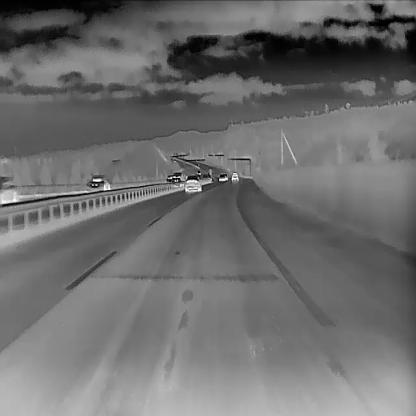car: (84, 172, 110, 194), (0, 173, 17, 204), (183, 174, 202, 192), (171, 171, 184, 188), (164, 174, 174, 184), (230, 172, 239, 180), (216, 173, 226, 180)
